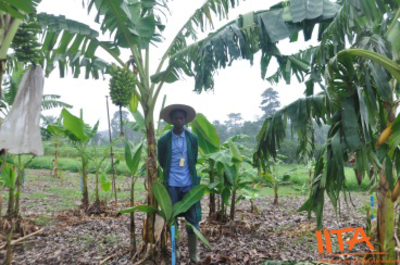bananaHand: (9, 18, 46, 64), (109, 65, 141, 108)
